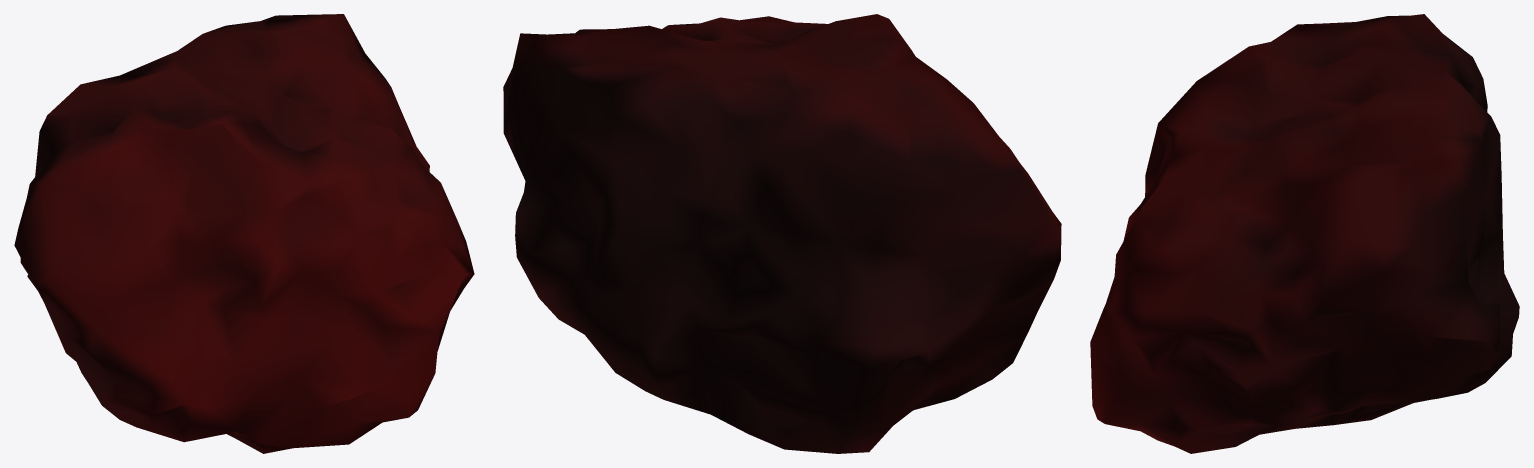
Rendered from geology-rocks-meteoritesmall_v2.fbx.
The picture shows the model from 3 angles, left to right: view 1: azimuth 30°, elevation 25°; view 2: azimuth 150°, elevation 25°; view 3: azimuth 270°, elevation 25°; orthographic projection. The views are drawn at different scales.
Visible parts, largest first — view 1: MeteoriteSmall_v2; view 2: MeteoriteSmall_v2; view 3: MeteoriteSmall_v2.
Boxes of the visible parts, x1,y1,x2,y2 form: MeteoriteSmall_v2: (14,14,474,453); MeteoriteSmall_v2: (503,14,1061,453); MeteoriteSmall_v2: (1090,14,1519,453).
Bounding box in the file's own units: 1.54 × 1.16 × 1.25.
